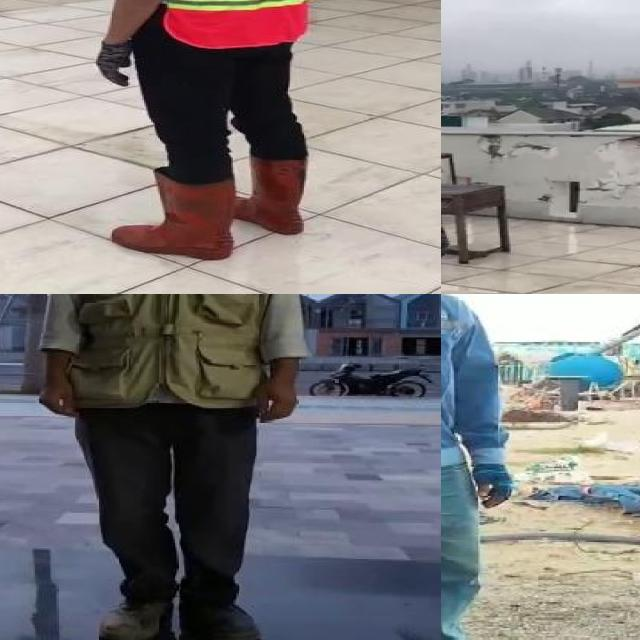boots: (108, 171, 240, 264), (235, 156, 309, 236)
hand_glove: (466, 462, 516, 510), (91, 41, 138, 90)
hand_noglove: (247, 373, 304, 426), (29, 371, 84, 424)
person: (20, 294, 312, 640), (93, 0, 329, 263), (441, 294, 516, 640)
shoes: (177, 588, 276, 640), (88, 587, 172, 640)
vest: (35, 294, 301, 410), (156, 0, 334, 49)
